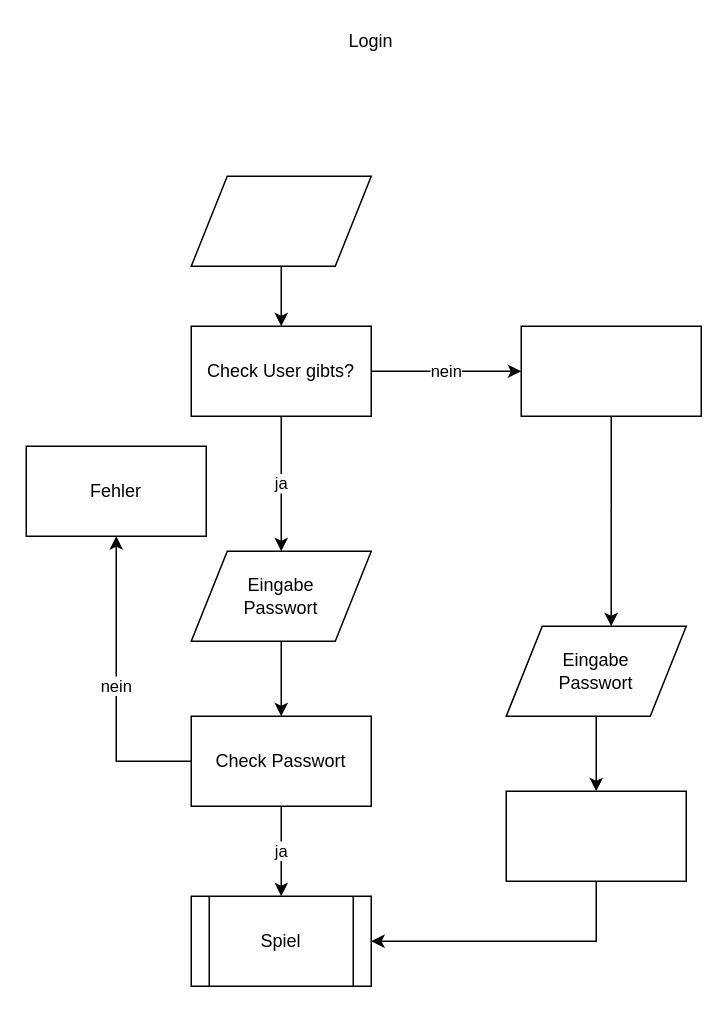
The diagram is 728 pixels wide and 1013 high, and some of its shapes have lost their labels. Here are the shapes that lost their labels. From the top down, the centre of each, then its label:
At (x=280, y=220): "Eingabe Username".
At (x=610, y=370): "Erzeuge User".
At (x=595, y=835): "Speicher Passwort".
